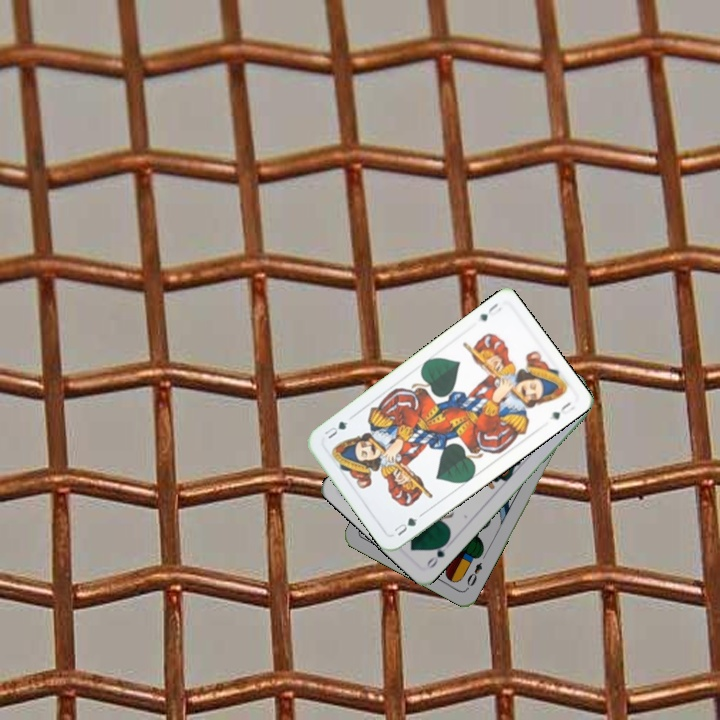EO: (463, 558, 485, 589)
GO: (422, 536, 451, 571)
GU: (389, 513, 420, 539), (476, 298, 504, 324)
